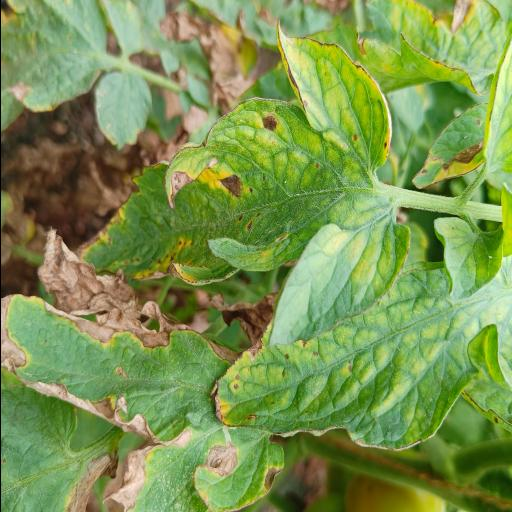Early Blight: (74, 20, 412, 356), (1, 285, 284, 512)
